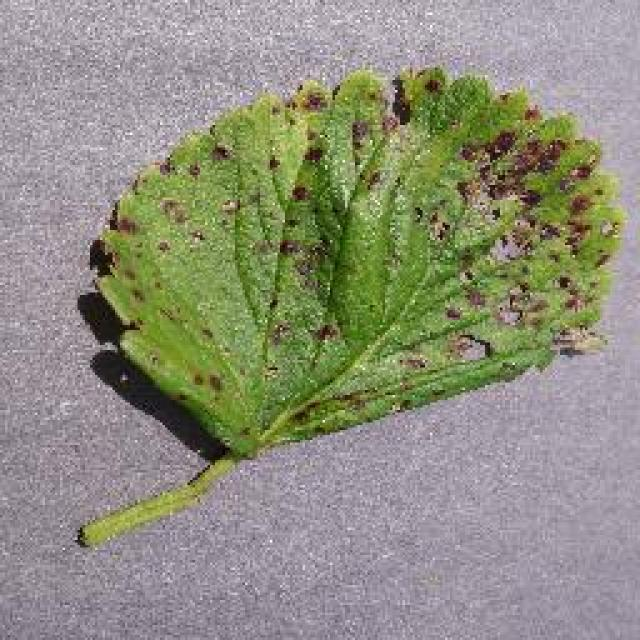Strawberry leaf scorch: (76, 72, 586, 365)
